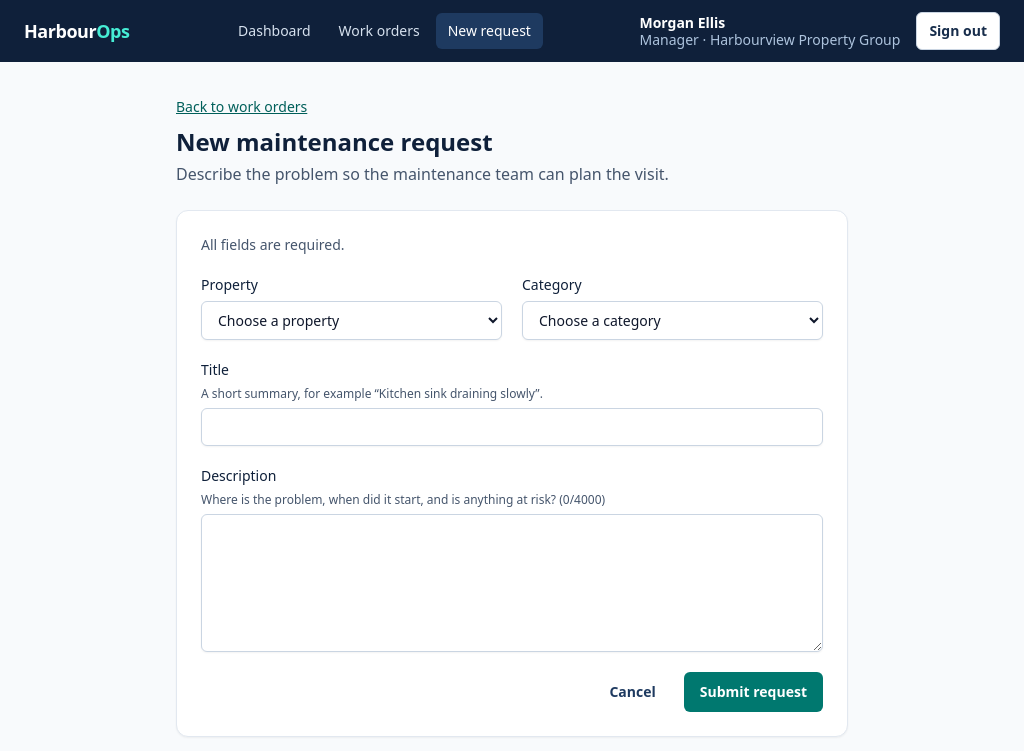
Test case: CreateWorkOrderPage › shows client-side validation messages for every missing field
This screenshot has width=1024, height=751.
Click the button "Submit request" at (753, 692), box [684, 672, 823, 712]
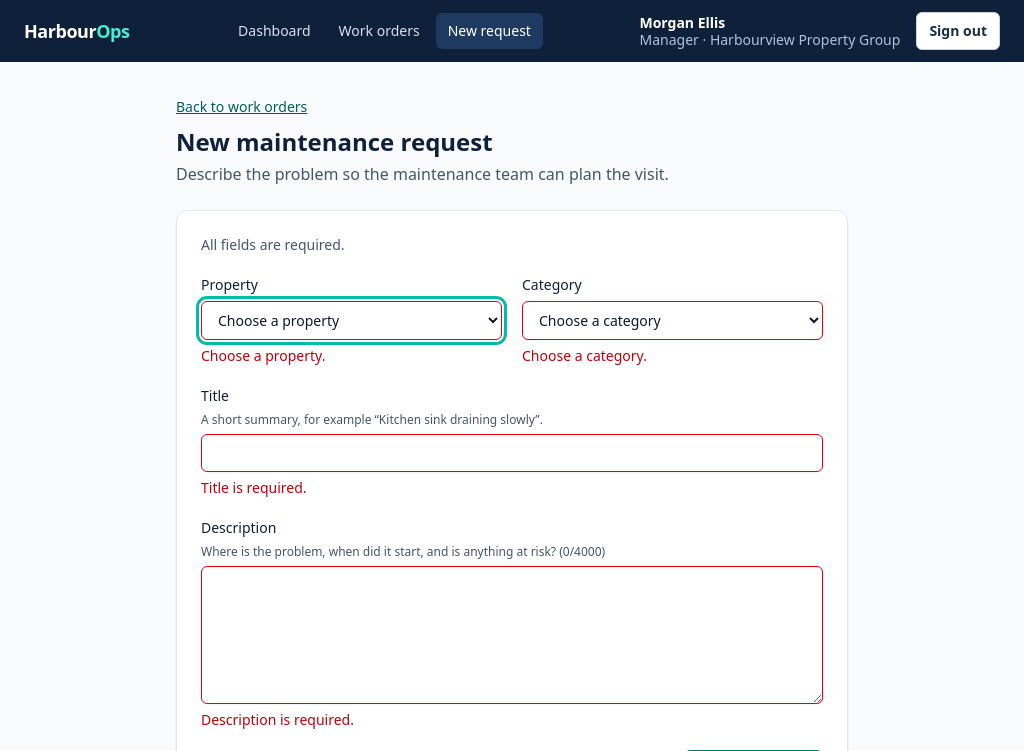
Now the text "Choose a property." is shown, box [201, 346, 325, 365]
Now the text "Choose a category." is shown, box [522, 346, 647, 365]
Now the text "Title is required." is shown, box [201, 478, 307, 497]
